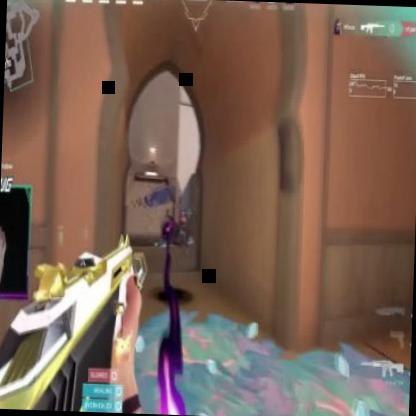enemy: (178, 208, 190, 240)
enemy_head: (181, 208, 186, 218)
